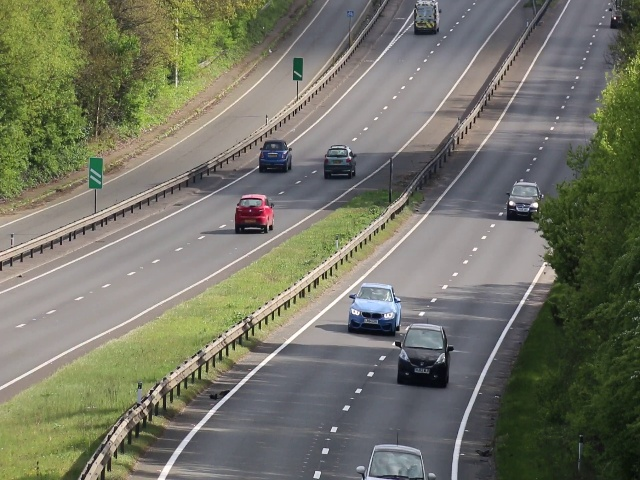car: (399, 323, 454, 382), (347, 282, 401, 335), (365, 446, 424, 480), (233, 192, 275, 232), (509, 178, 539, 221), (258, 142, 292, 172), (324, 146, 355, 178), (414, 2, 439, 34)
